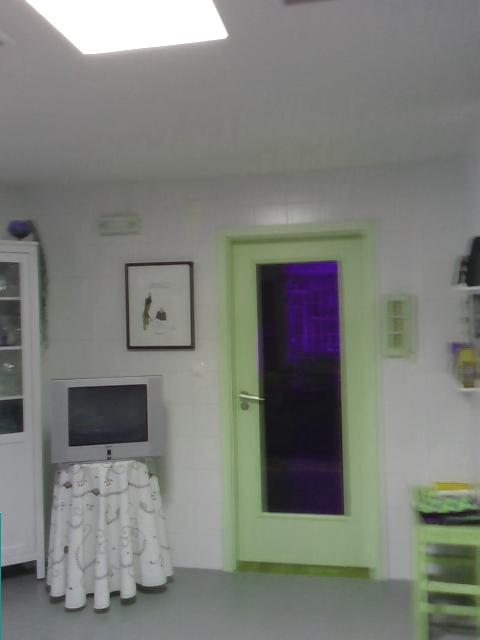closed_door: (216, 218, 382, 582)
